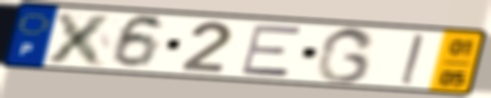2: (178, 20, 238, 75)
6: (106, 13, 170, 73)
E: (239, 24, 304, 79)
G: (313, 25, 378, 85)
I: (397, 32, 426, 87)
X: (42, 10, 119, 69)
